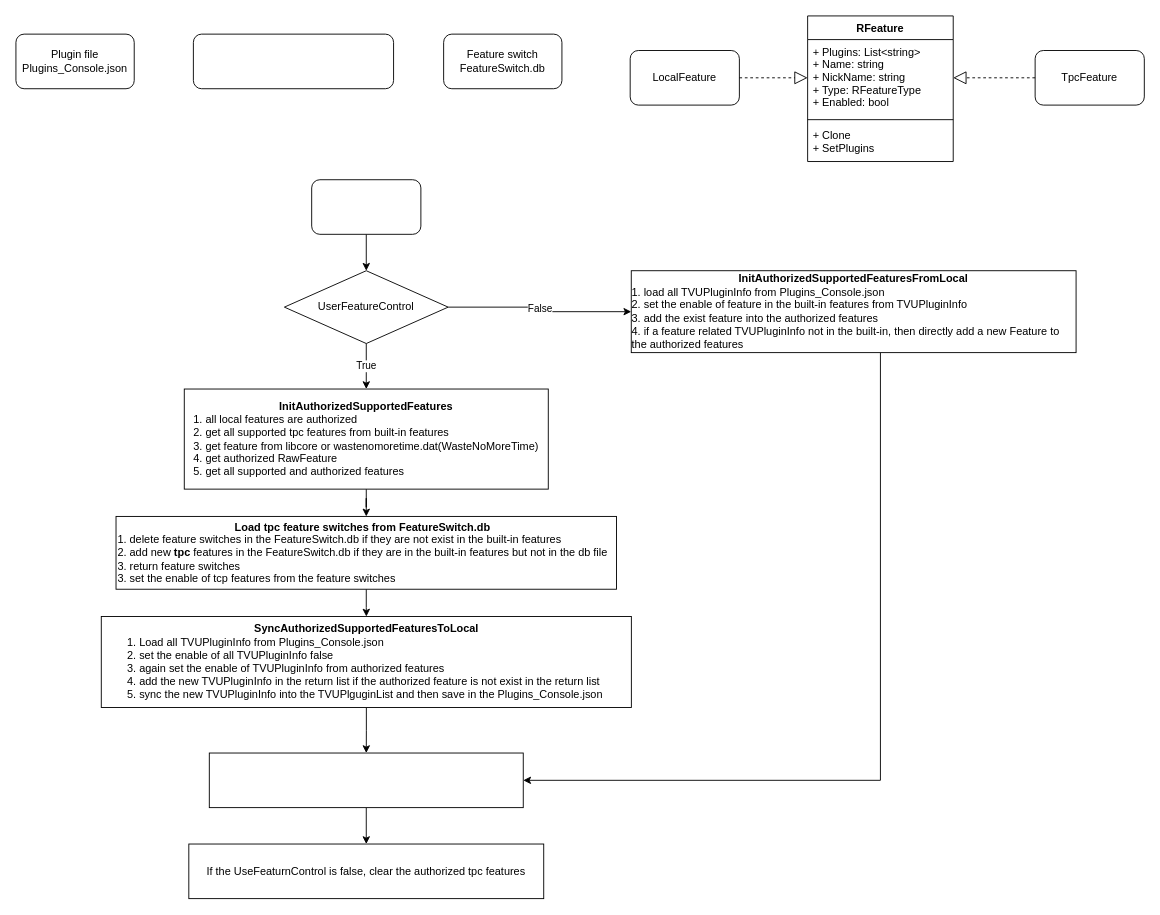
Image size: 1160x915. Some labels were removed from this diagram. The box of each missing label's shape, as (x1, y1, x2, y2) in pixels:
Extro mapping ExtraFeatureMapping_Console.db: (192, 33, 394, 89)
Generate the feature switches from the authorized tpc feature: (208, 752, 523, 808)
RFeatureManager: (311, 179, 421, 234)
